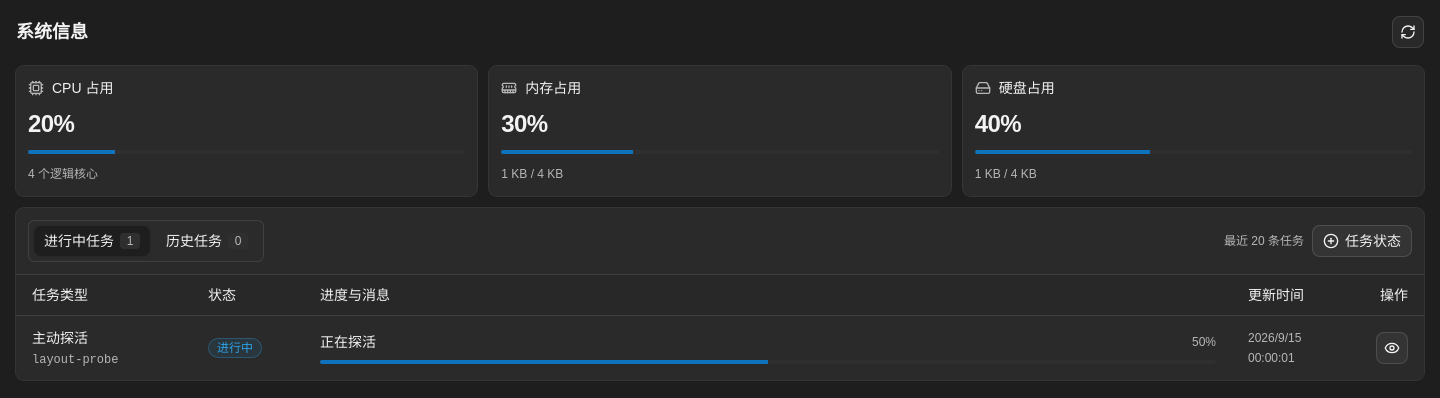
Test: 后台刷新尚未完成时保留资源和任务内容并禁用刷新按钮
The width and height of the screenshot is (1440, 398).
Click the button named "刷新系统信息". click: (1408, 32)
box: [1392,16,1424,48]
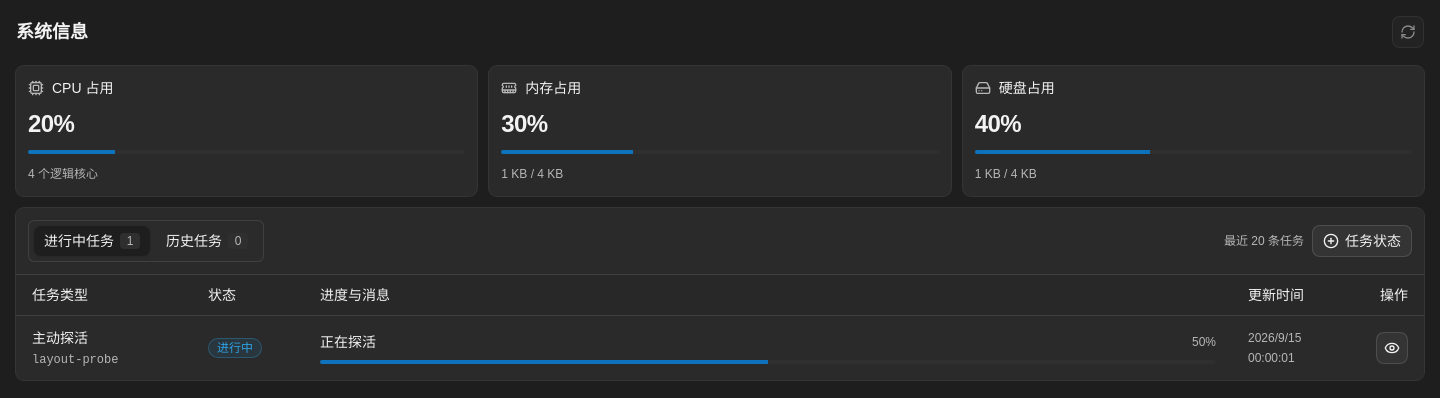
Expected: the text "正在探活" is shown, [320,334,376,350]
Result: the button named "刷新系统信息" is disabled at [1392,16,1424,48]
